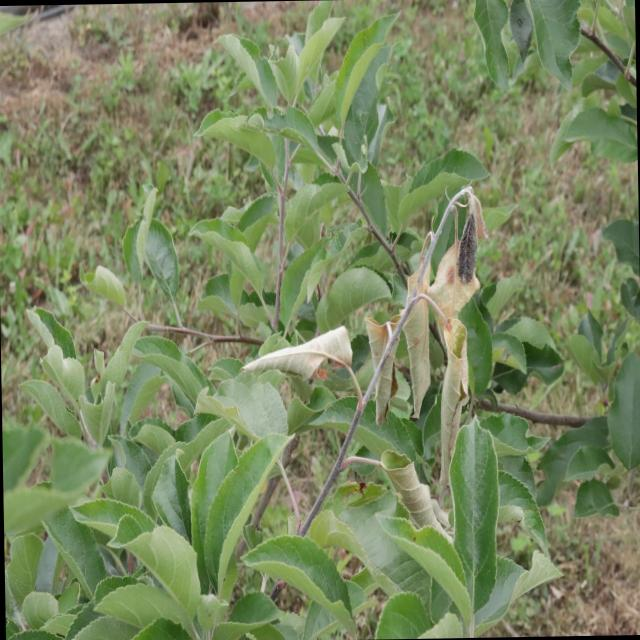-FireBlight-: (228, 193, 485, 545)
